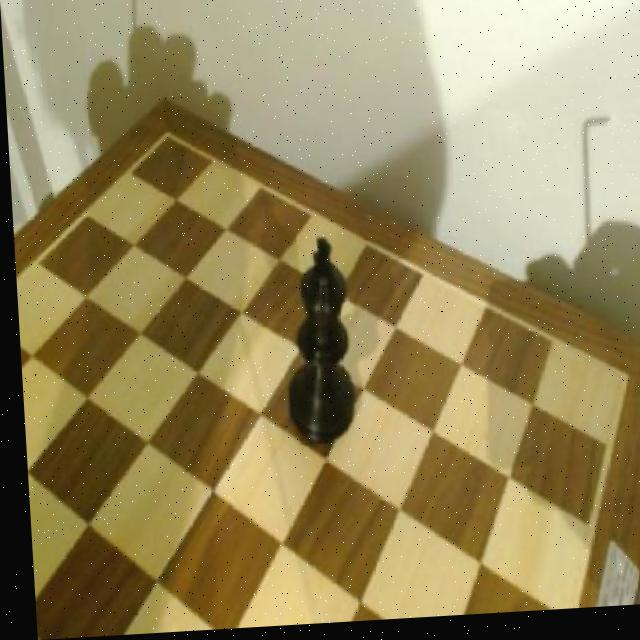black-bishop: (276, 242, 359, 452)
